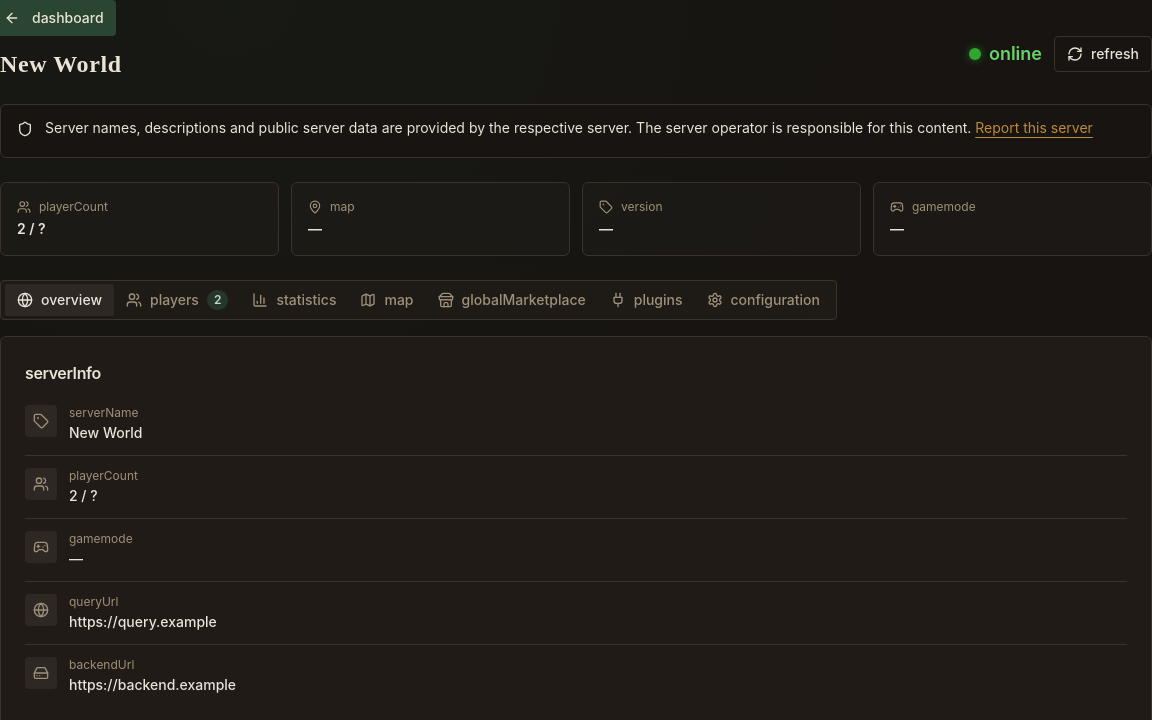
Scenario: server detail mapping tabs › shows stored group, playtime, and health for the matching online UID
The width and height of the screenshot is (1152, 720).
Press the mouse on the tab "players 2" at (177, 300), box left=114, top=284, right=240, bottom=316
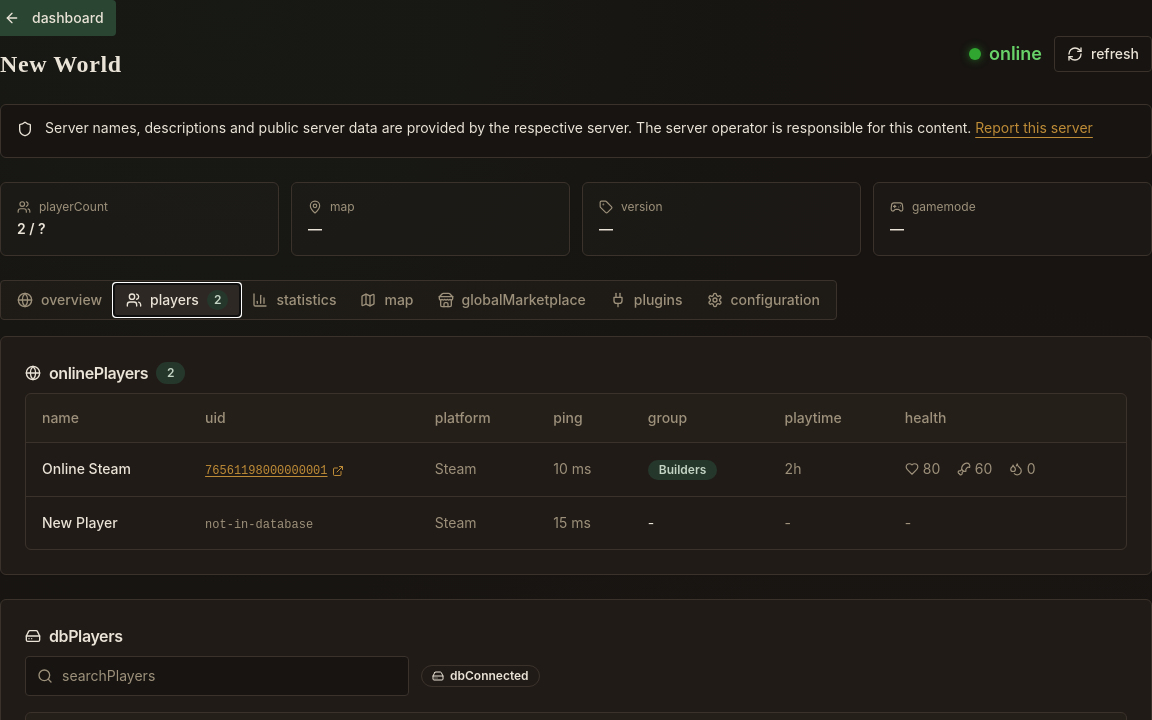
expect the text "Builders" is shown: met, box left=648, top=460, right=717, bottom=480
expect the text "2h" is shown: met, box left=769, top=442, right=889, bottom=496
expect the text "80" is shown: met, box left=923, top=459, right=940, bottom=479
